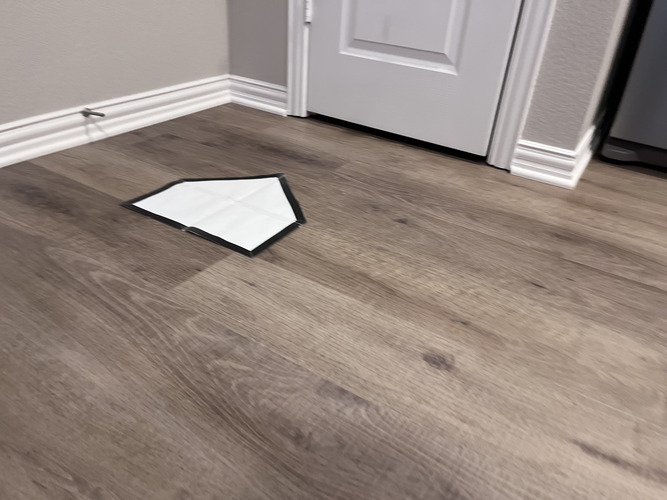homeplate: (118, 172, 306, 257)
